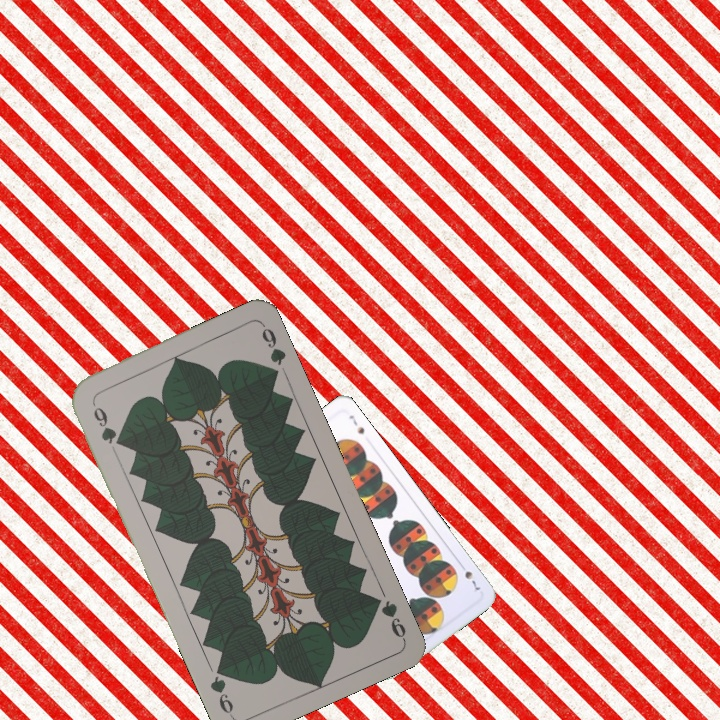G9: (367, 591, 409, 642), (88, 398, 125, 449)
S7: (455, 559, 483, 593)
